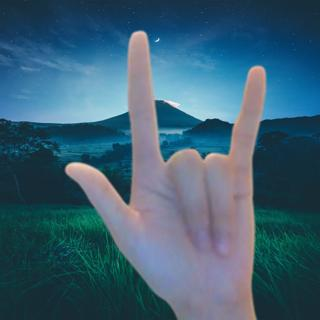ILY: (60, 27, 276, 312)
